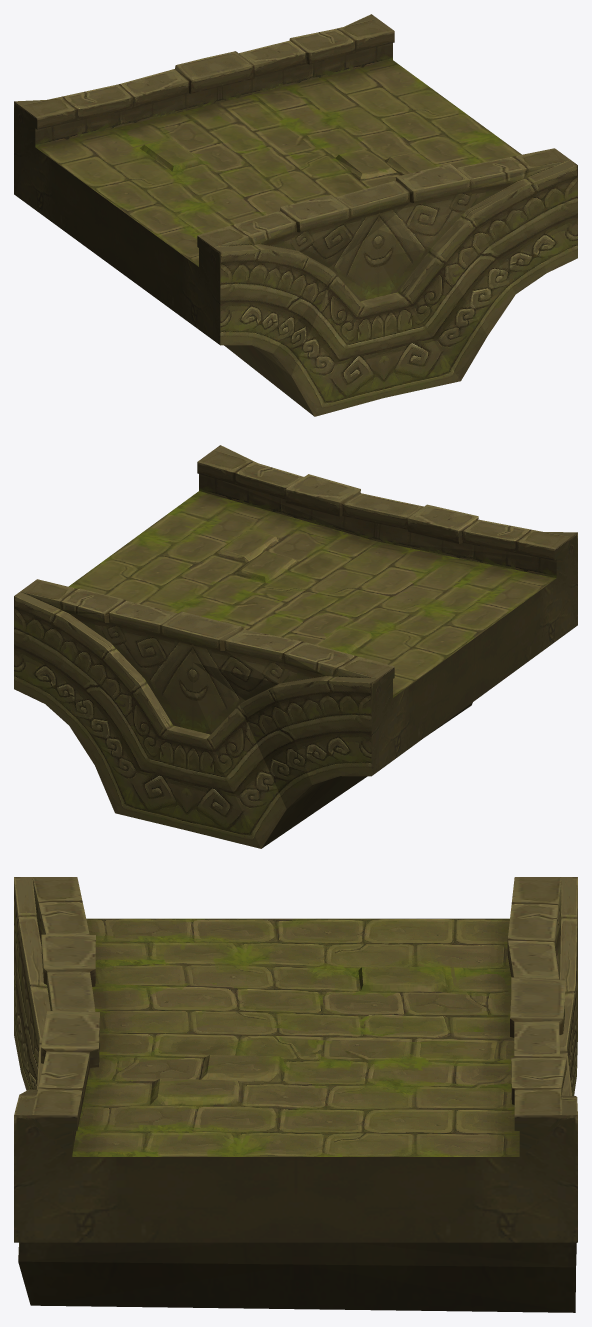
The model's file is stone_bridge_04.fbx.
3 renders of one model, top to bottom at view 1: azimuth 30°, elevation 25°; view 2: azimuth 150°, elevation 25°; view 3: azimuth 270°, elevation 25°, orthographic. The views are drawn at different scales.
Visible parts, largest first — view 1: obj2.004; view 2: obj2.004; view 3: obj2.004.
Part boxes in pixels (<box>): obj2.004: <box>14,14,577,416</box>; obj2.004: <box>14,445,577,848</box>; obj2.004: <box>14,877,577,1312</box>.
Size of the model in its own units: 6 by 3.14 by 6.
